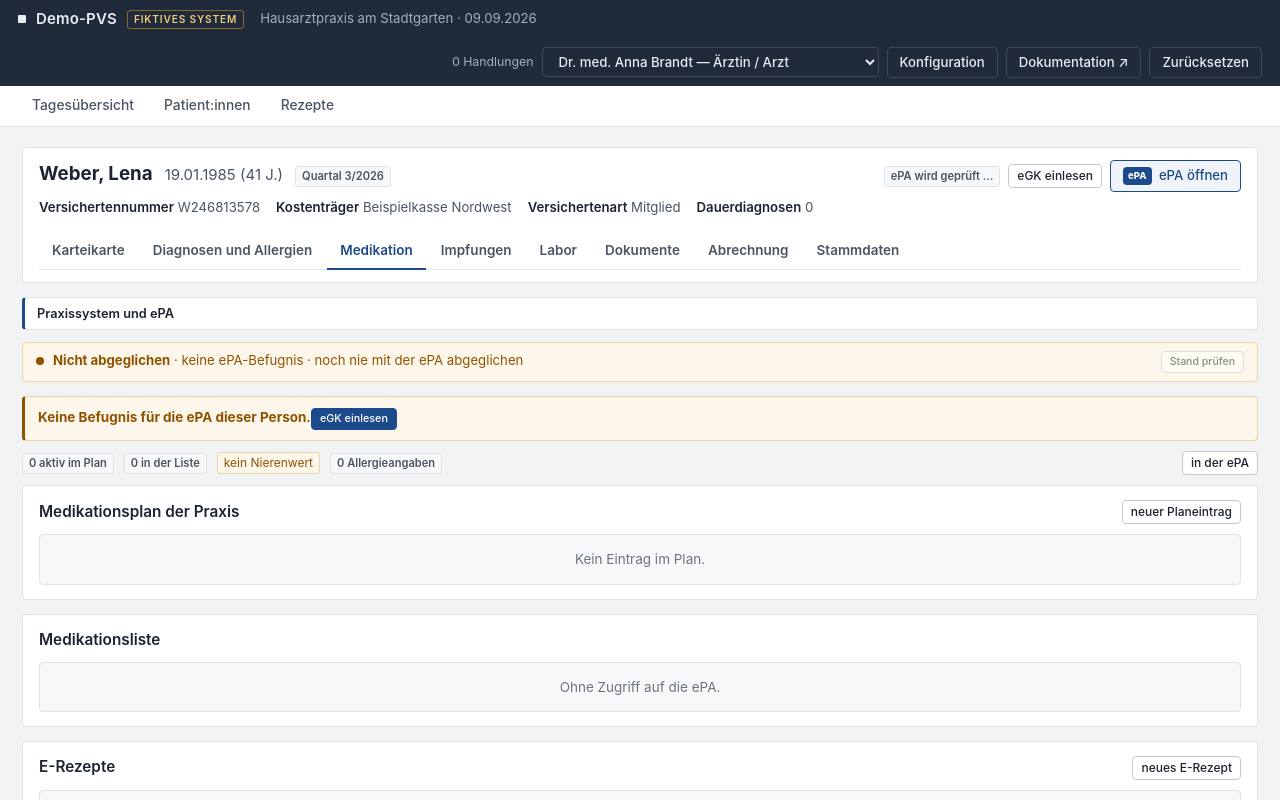
Medikationsplan der Praxis ohne Akte › nimmt ein neues E-Rezept beim Verordnen in den Plan auf
Expected: the heading "Medikationsplan der Praxis" is shown, top-left (39, 501), bottom-right (239, 524)
Click the button "neues E-Rezept" at (1187, 768), box top-left (1132, 756), bottom-right (1241, 780)
(page scrolled)
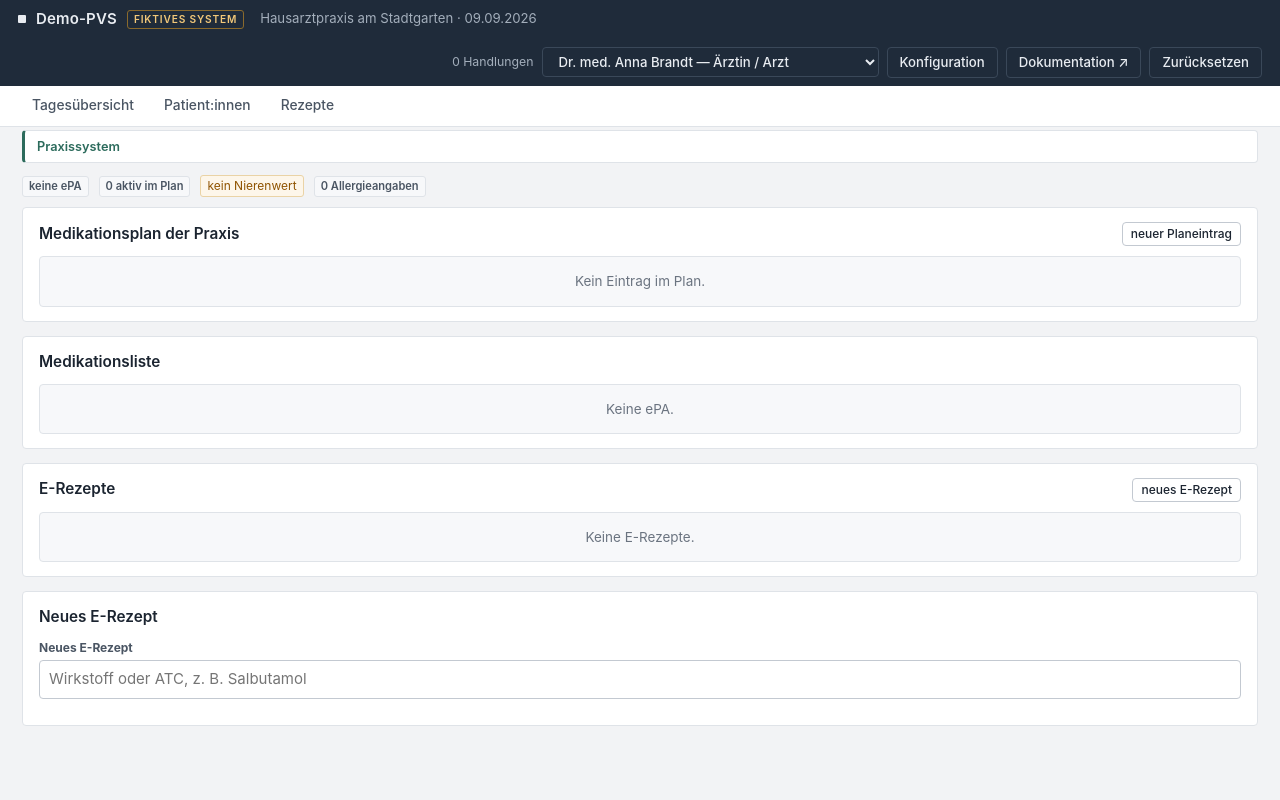
Type "Ramipril 5" into the dropdown labelled "Neues E-Rezept" at (640, 679), box top-left (39, 660), bottom-right (1241, 698)
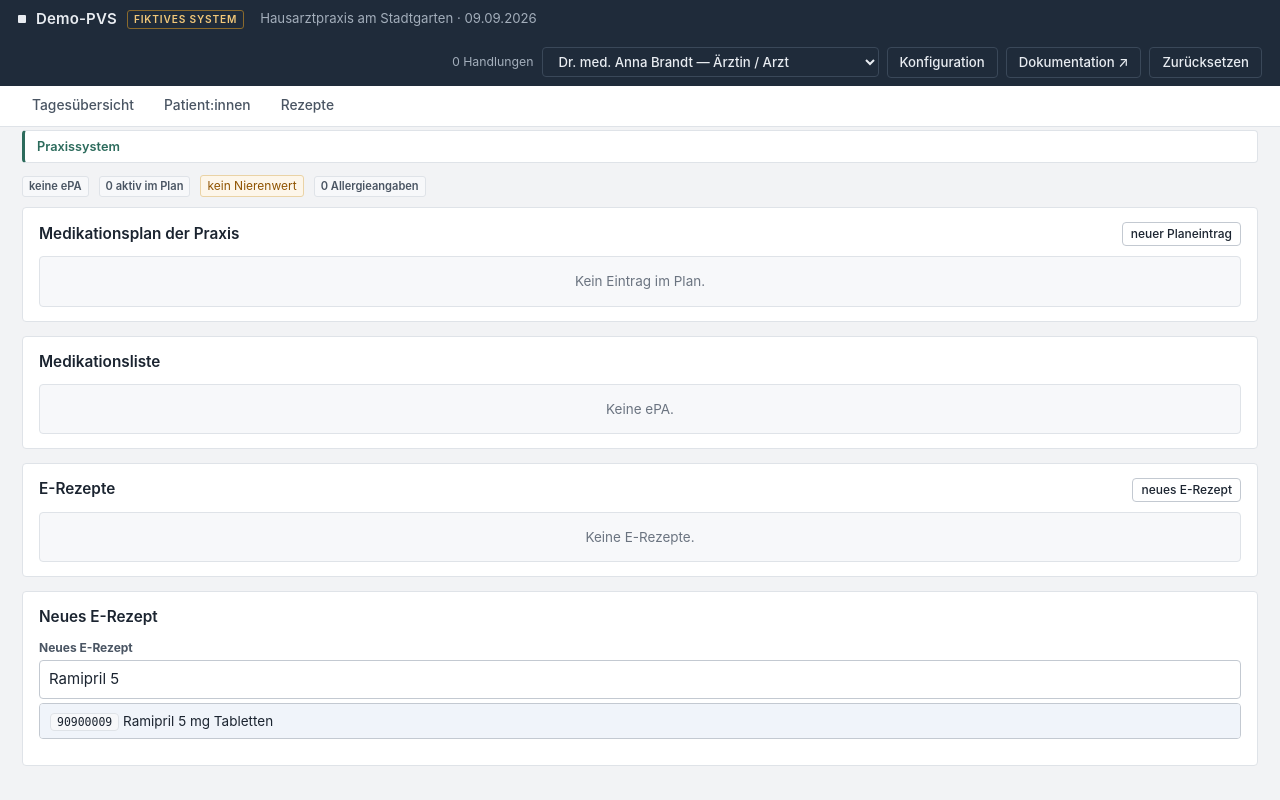
Click the option "90900009 Ramipril 5 mg Tabletten" at (85, 722), box top-left (40, 704), bottom-right (1240, 738)
(page scrolled)
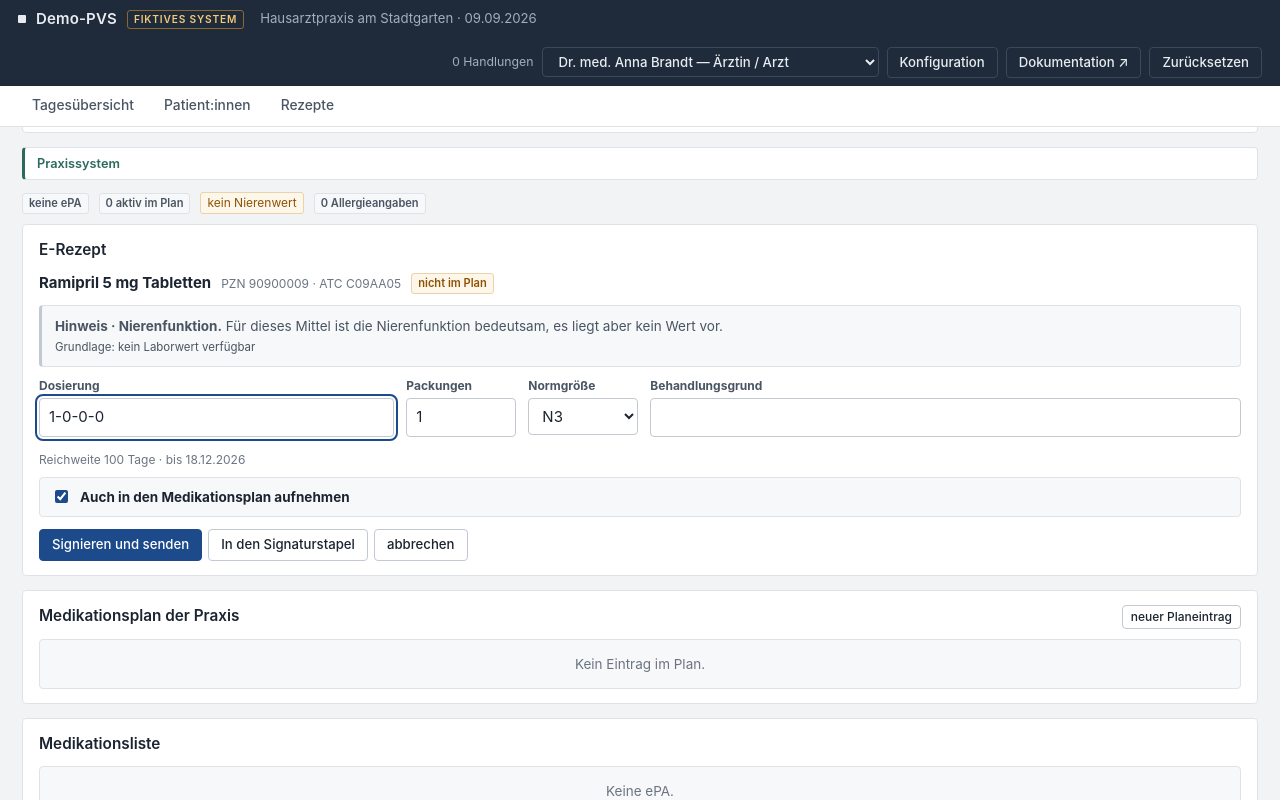
Now the checkbox labelled "Auch in den Medikationsplan aufnehmen" is checked, box top-left (55, 490), bottom-right (68, 503)
Click the button "Signieren und senden" at (121, 545), box top-left (39, 529), bottom-right (202, 561)
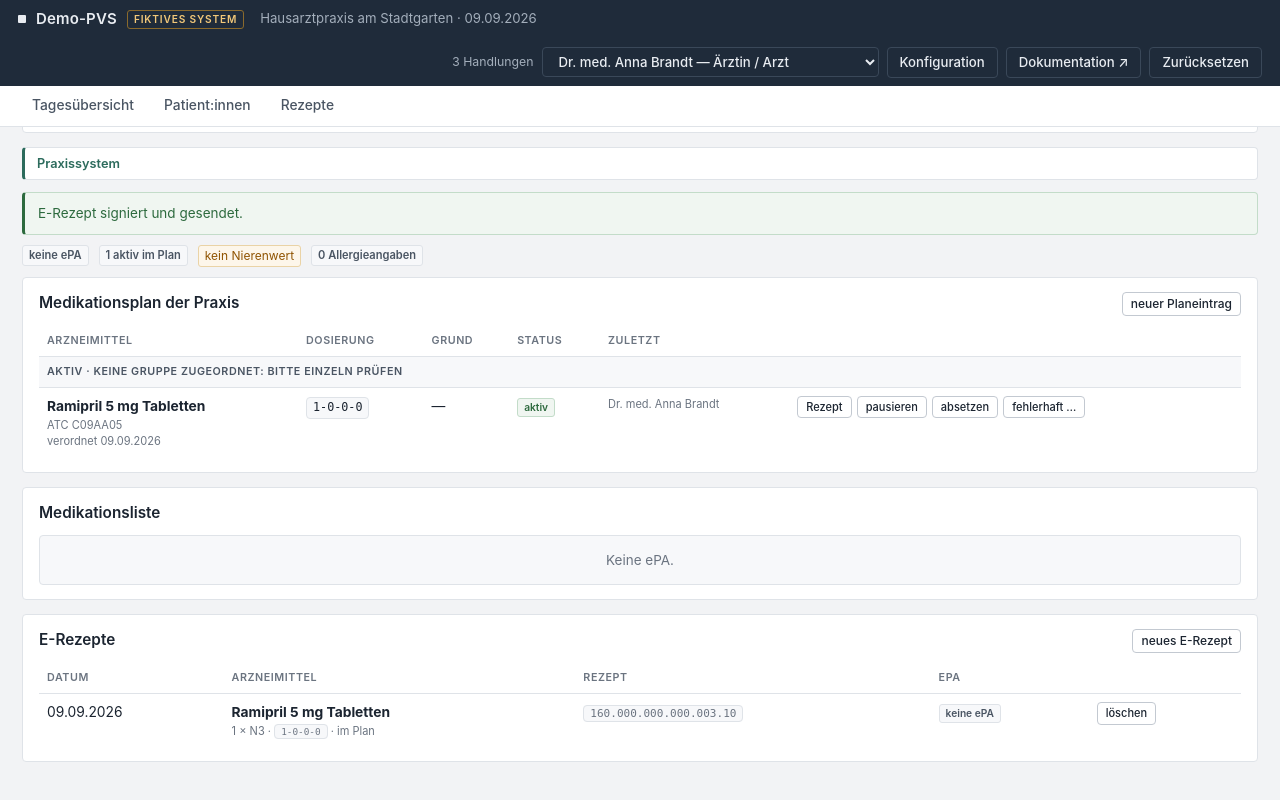
Now the text "Ramipril 5 mg Tabletten" in the row of "Dr. med. Anna Brandt" is shown, box top-left (47, 398), bottom-right (205, 414)
Now the text "E-Rezept signiert und gesendet." is shown, box top-left (22, 192), bottom-right (1258, 235)
Now the text "verordnet 09.09.2026" is shown, box top-left (47, 434), bottom-right (161, 448)
